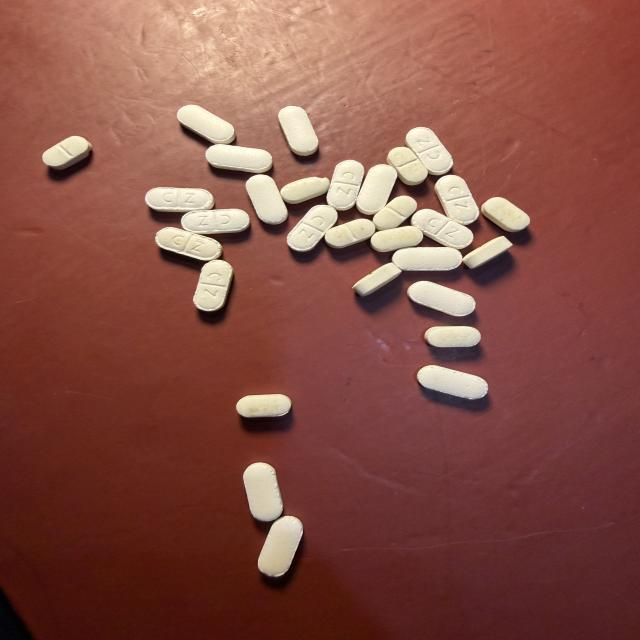pill: (258, 516, 302, 577), (411, 209, 473, 249), (418, 365, 488, 399), (408, 281, 475, 316), (287, 205, 337, 251), (177, 105, 235, 144), (243, 463, 282, 521), (406, 128, 453, 175), (435, 175, 479, 225), (156, 227, 222, 260), (246, 175, 288, 224), (356, 165, 397, 215), (194, 260, 233, 311), (279, 106, 318, 156), (206, 144, 272, 173), (327, 160, 364, 210), (181, 209, 249, 234), (482, 197, 530, 232), (145, 188, 214, 212), (43, 136, 92, 169), (352, 263, 401, 296), (392, 247, 462, 270), (387, 147, 428, 185), (463, 237, 512, 268), (373, 196, 416, 230), (325, 219, 375, 248), (371, 226, 423, 252), (281, 177, 329, 203), (237, 394, 291, 417), (425, 326, 480, 347)
